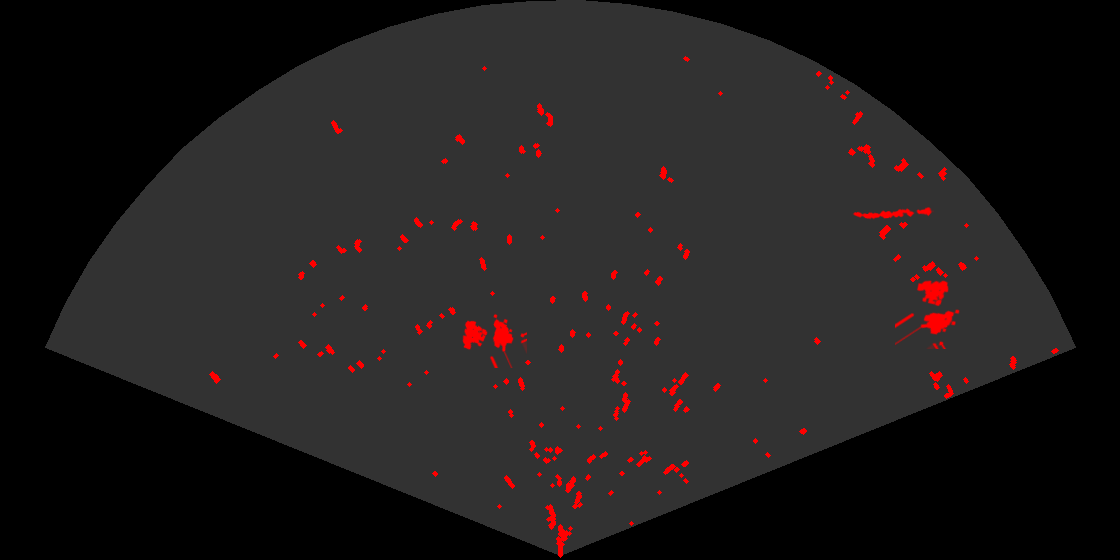cage: (895, 278, 961, 349), (461, 312, 527, 368)
chain: (852, 206, 934, 221)
